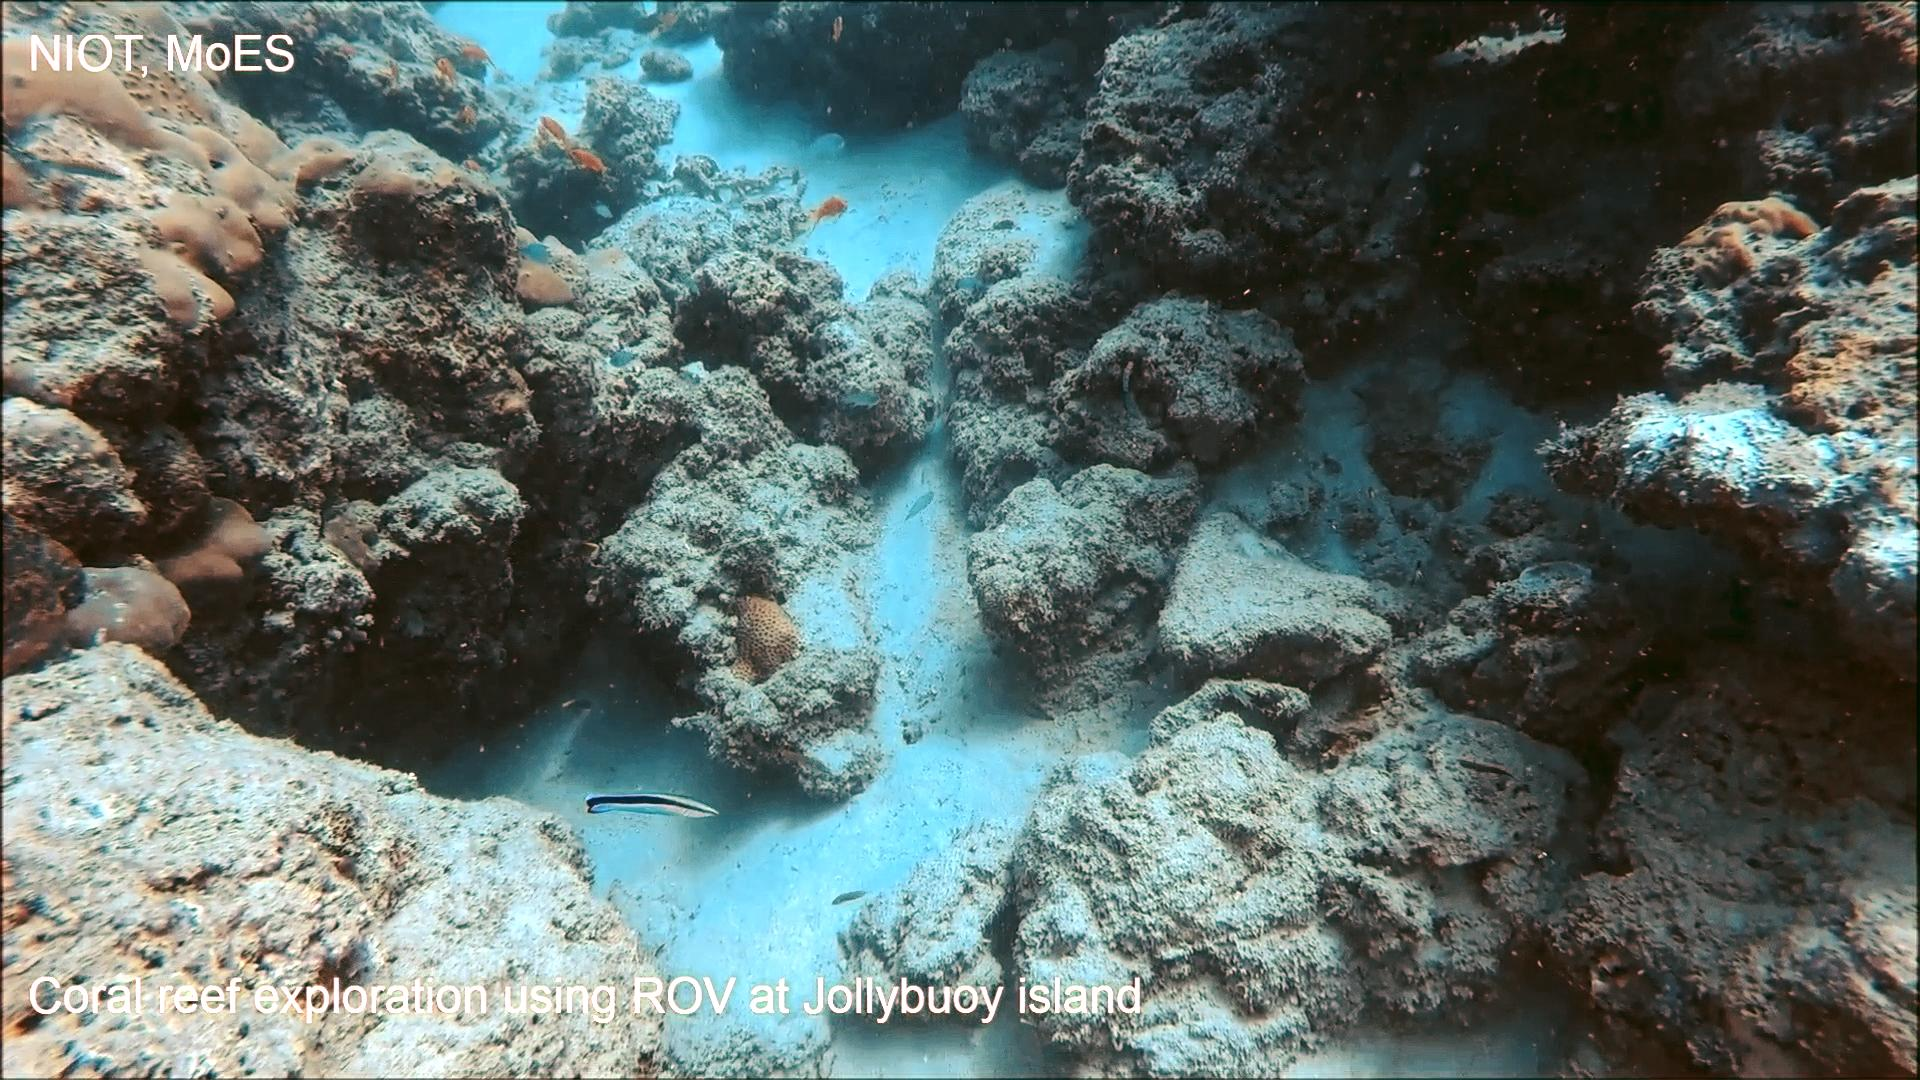Porites-Porites pukoensis: (0, 0, 368, 344)
